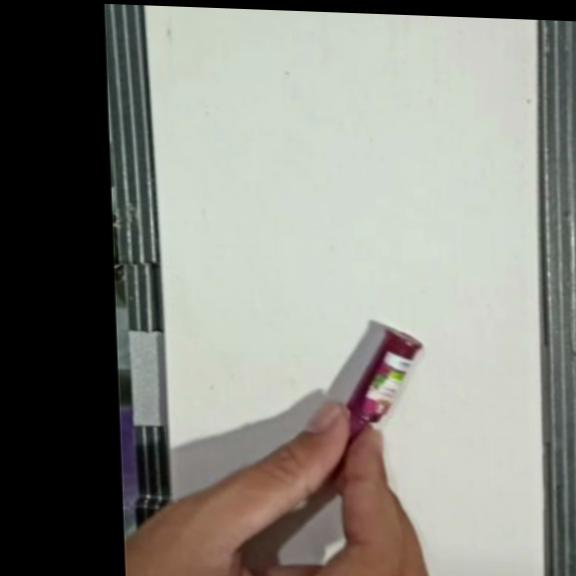Plastik: (343, 325, 426, 442)
